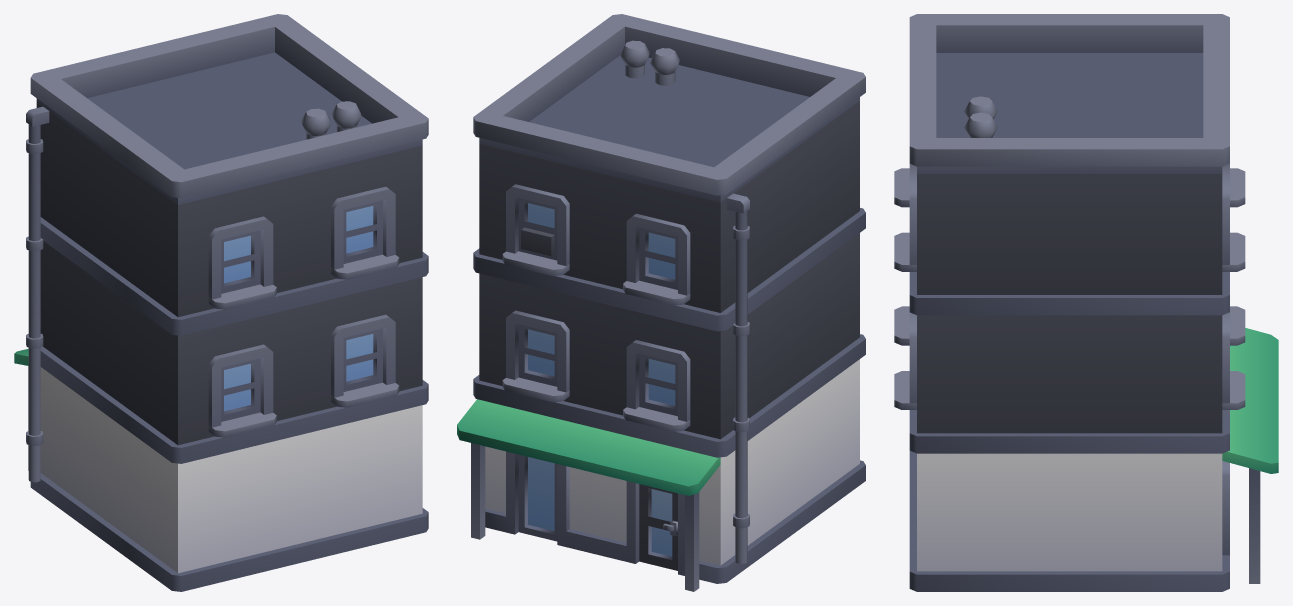
File: city_7.fbx
3 renders of one model, left to right at view 1: azimuth 30°, elevation 25°; view 2: azimuth 150°, elevation 25°; view 3: azimuth 270°, elevation 25°, orthographic. The views are drawn at different scales.
Parts seen in each view (by area): view 1: city_7; view 2: city_7; view 3: city_7.
Boxes of the visible parts, bbox=[...] form: city_7: bbox=[14, 14, 428, 591]; city_7: bbox=[457, 14, 865, 591]; city_7: bbox=[894, 14, 1278, 591].
Size of the model in its own units: 0.8836 by 1.29 by 1.01.
1 material, 1 textured.
